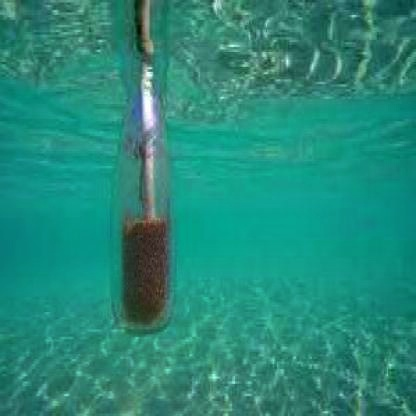gbottle: (110, 52, 178, 332)
